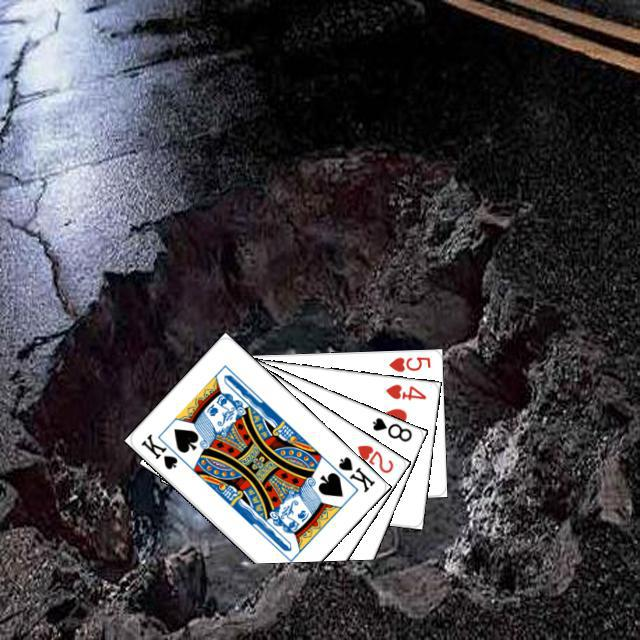2h: (352, 440, 395, 475)
4h: (381, 379, 428, 402)
5h: (384, 352, 432, 373)
8s: (367, 412, 414, 443)
Ks: (136, 429, 187, 471), (333, 452, 377, 494)
